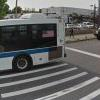Bus: (1, 11, 70, 72)
